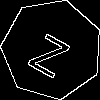Z: (27, 24, 77, 79)
